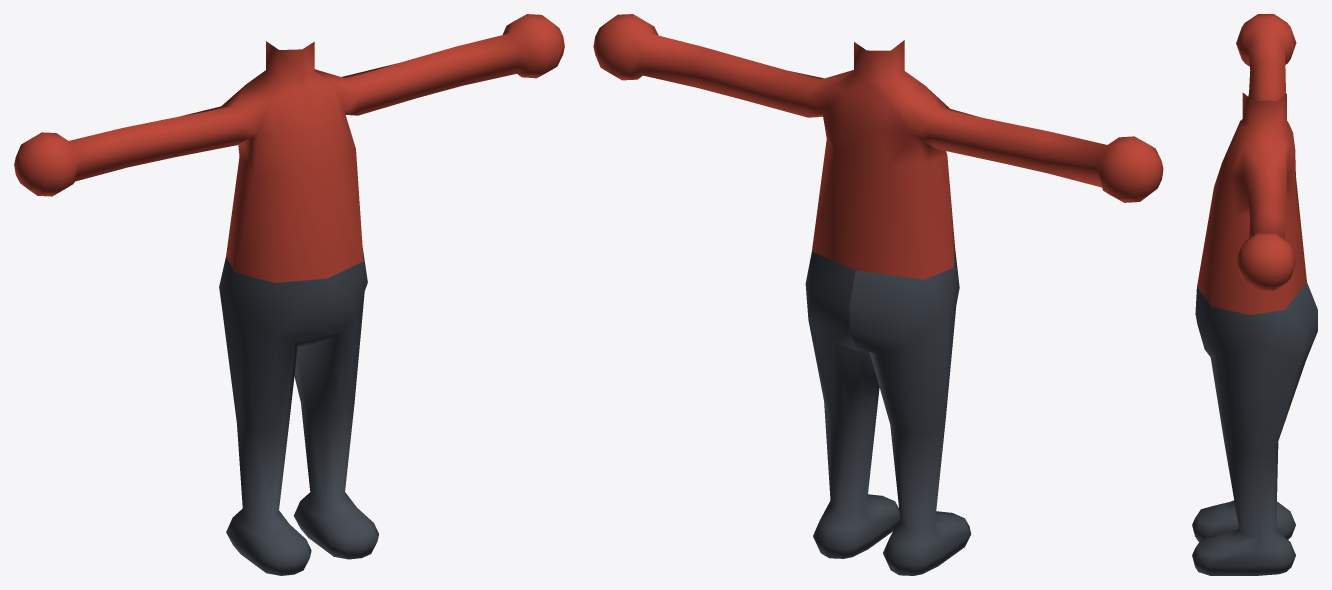
File: Male.gltf
The picture shows the model from 3 angles, left to right: view 1: azimuth 30°, elevation 25°; view 2: azimuth 150°, elevation 25°; view 3: azimuth 270°, elevation 25°; orthographic projection. The views are drawn at different scales.
Visible parts, largest first — view 1: シャツ_Mesh_0002.rip_mesh0000.003, ズボン_Mesh_0002.rip_mesh0000.005, ズボン_Mesh_0002.rip_mesh0000.001; view 2: シャツ_Mesh_0002.rip_mesh0000.003, ズボン_Mesh_0002.rip_mesh0000.005, ズボン_Mesh_0002.rip_mesh0000.001; view 3: シャツ_Mesh_0002.rip_mesh0000.003, ズボン_Mesh_0002.rip_mesh0000.001, ズボン_Mesh_0002.rip_mesh0000.005.
Boxes of the visible parts, left/top/right/bottom form: シャツ_Mesh_0002.rip_mesh0000.003: left=14, top=14, right=564, bottom=282; ズボン_Mesh_0002.rip_mesh0000.005: left=219, top=257, right=327, bottom=575; ズボン_Mesh_0002.rip_mesh0000.001: left=293, top=248, right=378, bottom=559; シャツ_Mesh_0002.rip_mesh0000.003: left=593, top=14, right=1163, bottom=279; ズボン_Mesh_0002.rip_mesh0000.005: left=849, top=248, right=971, bottom=575; ズボン_Mesh_0002.rip_mesh0000.001: left=805, top=252, right=899, bottom=558; シャツ_Mesh_0002.rip_mesh0000.003: left=1197, top=14, right=1306, bottom=314; ズボン_Mesh_0002.rip_mesh0000.001: left=1192, top=282, right=1317, bottom=575; ズボン_Mesh_0002.rip_mesh0000.005: left=1192, top=500, right=1295, bottom=541.
Bounding box in the file's own units: 1.42 × 1.25 × 0.3101.
2 materials, 2 textured.
